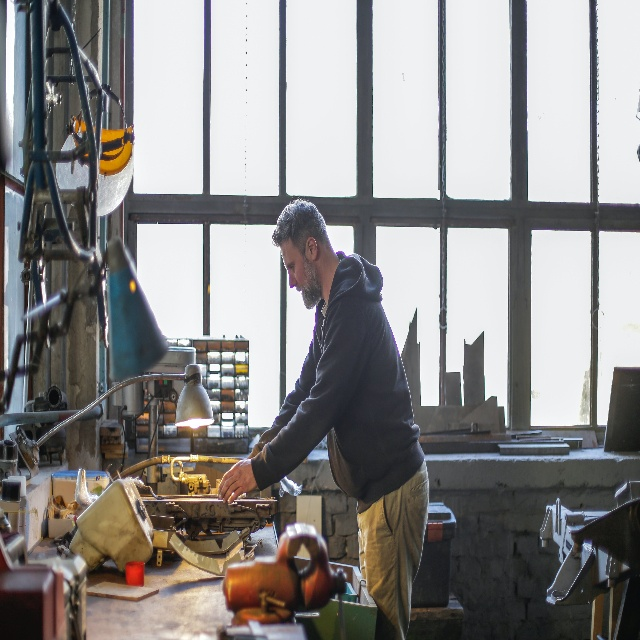Sin_guantes: (218, 463, 258, 504)
